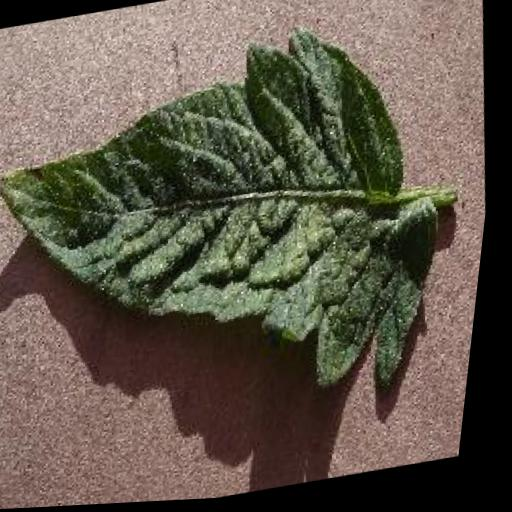Spider Mites: (0, 11, 482, 454)
